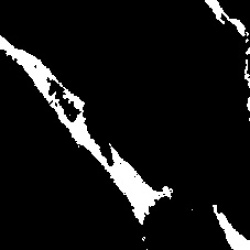crack: (0, 36, 173, 225), (205, 1, 248, 39), (214, 205, 249, 249)
pinhole: (140, 235, 148, 240)
